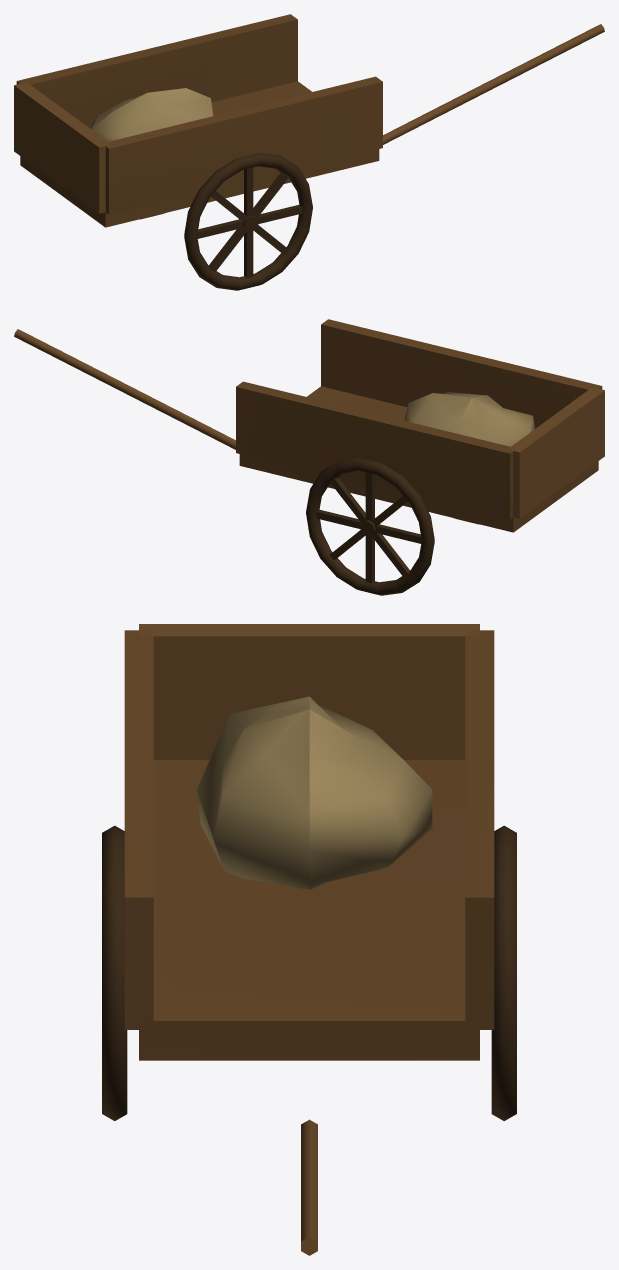
Rendered from carroca.glb.
3 renders of one model, top to bottom at view 1: azimuth 30°, elevation 25°; view 2: azimuth 150°, elevation 25°; view 3: azimuth 270°, elevation 25°, orthographic. The views are drawn at different scales.
Parts seen in each view (by area): view 1: Prop; view 2: Prop; view 3: Prop.
Part boxes in pixels (x1=…): Prop: x1=14, y1=14, x2=604, y2=290; Prop: x1=14, y1=319, x2=604, y2=595; Prop: x1=102, y1=624, x2=516, y2=1255.
Size of the model in its own units: 5.19 by 1.56 by 1.7.
